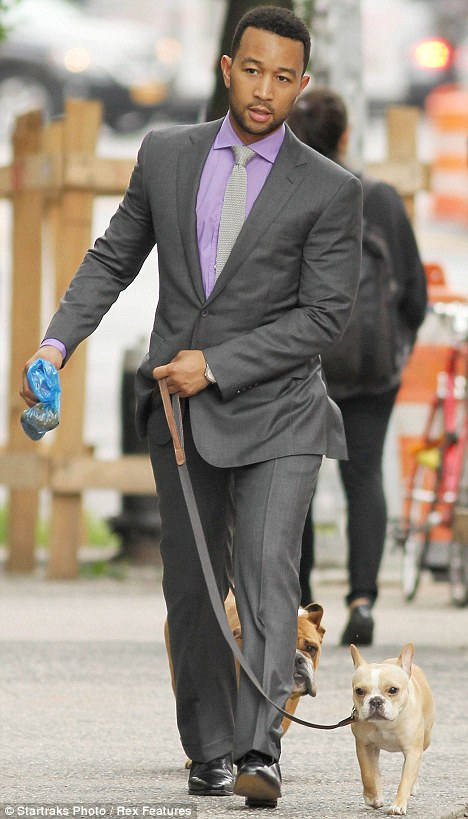feet: (167, 722, 296, 815)
